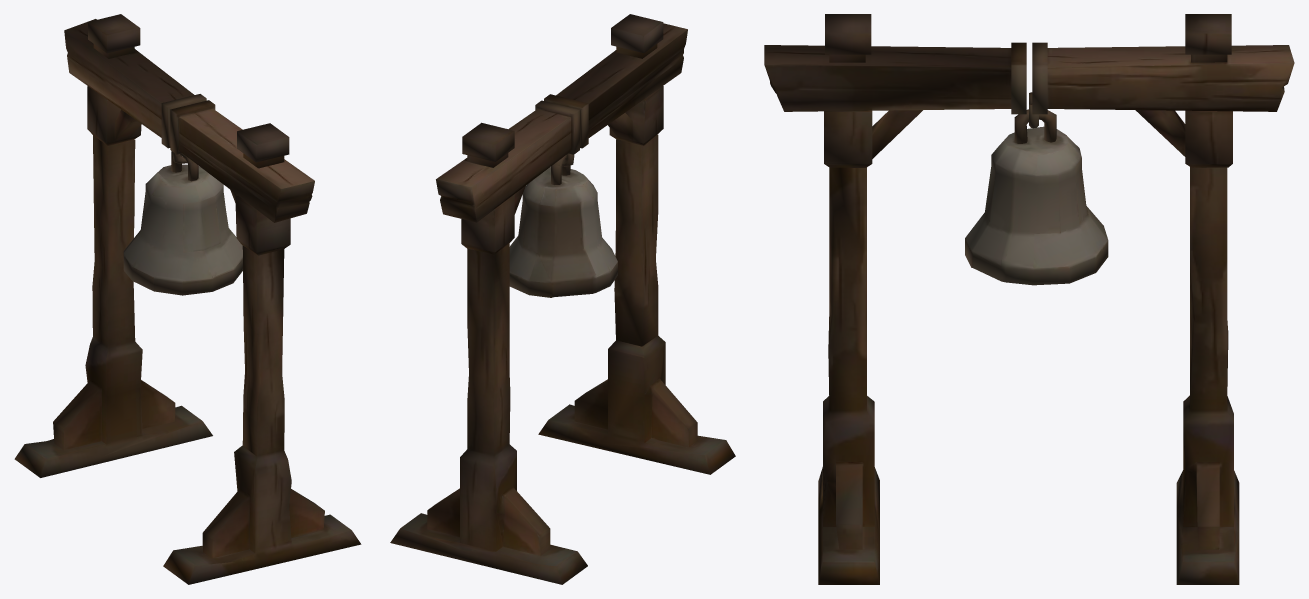
The model's file is marsh_bell_gallows.glb.
3 renders of one model, left to right at view 1: azimuth 30°, elevation 25°; view 2: azimuth 150°, elevation 25°; view 3: azimuth 270°, elevation 25°, orthographic. The views are drawn at different scales.
Parts seen in each view (by area): view 1: tripo_node_619b7b05-9a75-4bbc-970e-062ec05efb48; view 2: tripo_node_619b7b05-9a75-4bbc-970e-062ec05efb48; view 3: tripo_node_619b7b05-9a75-4bbc-970e-062ec05efb48.
Part boxes in pixels (x1,y1,x2,y2): tripo_node_619b7b05-9a75-4bbc-970e-062ec05efb48: [14, 14, 361, 584]; tripo_node_619b7b05-9a75-4bbc-970e-062ec05efb48: [390, 14, 735, 584]; tripo_node_619b7b05-9a75-4bbc-970e-062ec05efb48: [764, 14, 1294, 584].
Size of the model in its own units: 1.2 by 2.8 by 2.64.
Materials: 1 (1 with a texture image).
